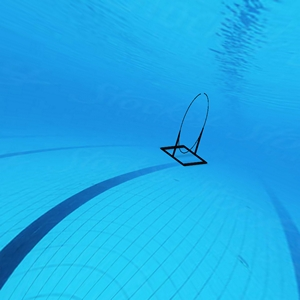circle: (158, 89, 216, 170)
